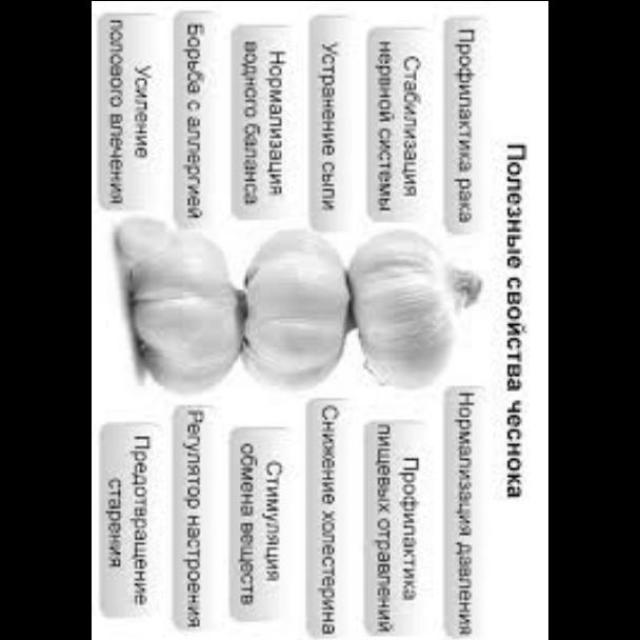cu toi: (331, 218, 498, 388), (235, 220, 358, 402), (134, 226, 258, 395), (111, 214, 170, 266)
